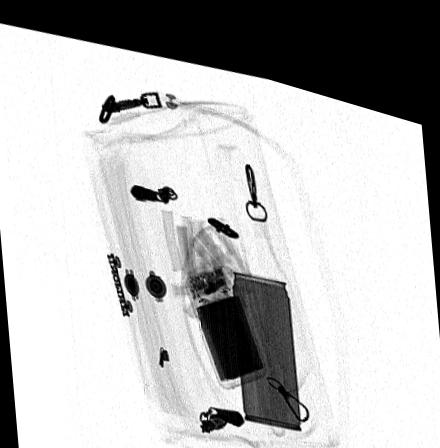Powerbank: (184, 252, 266, 377)
